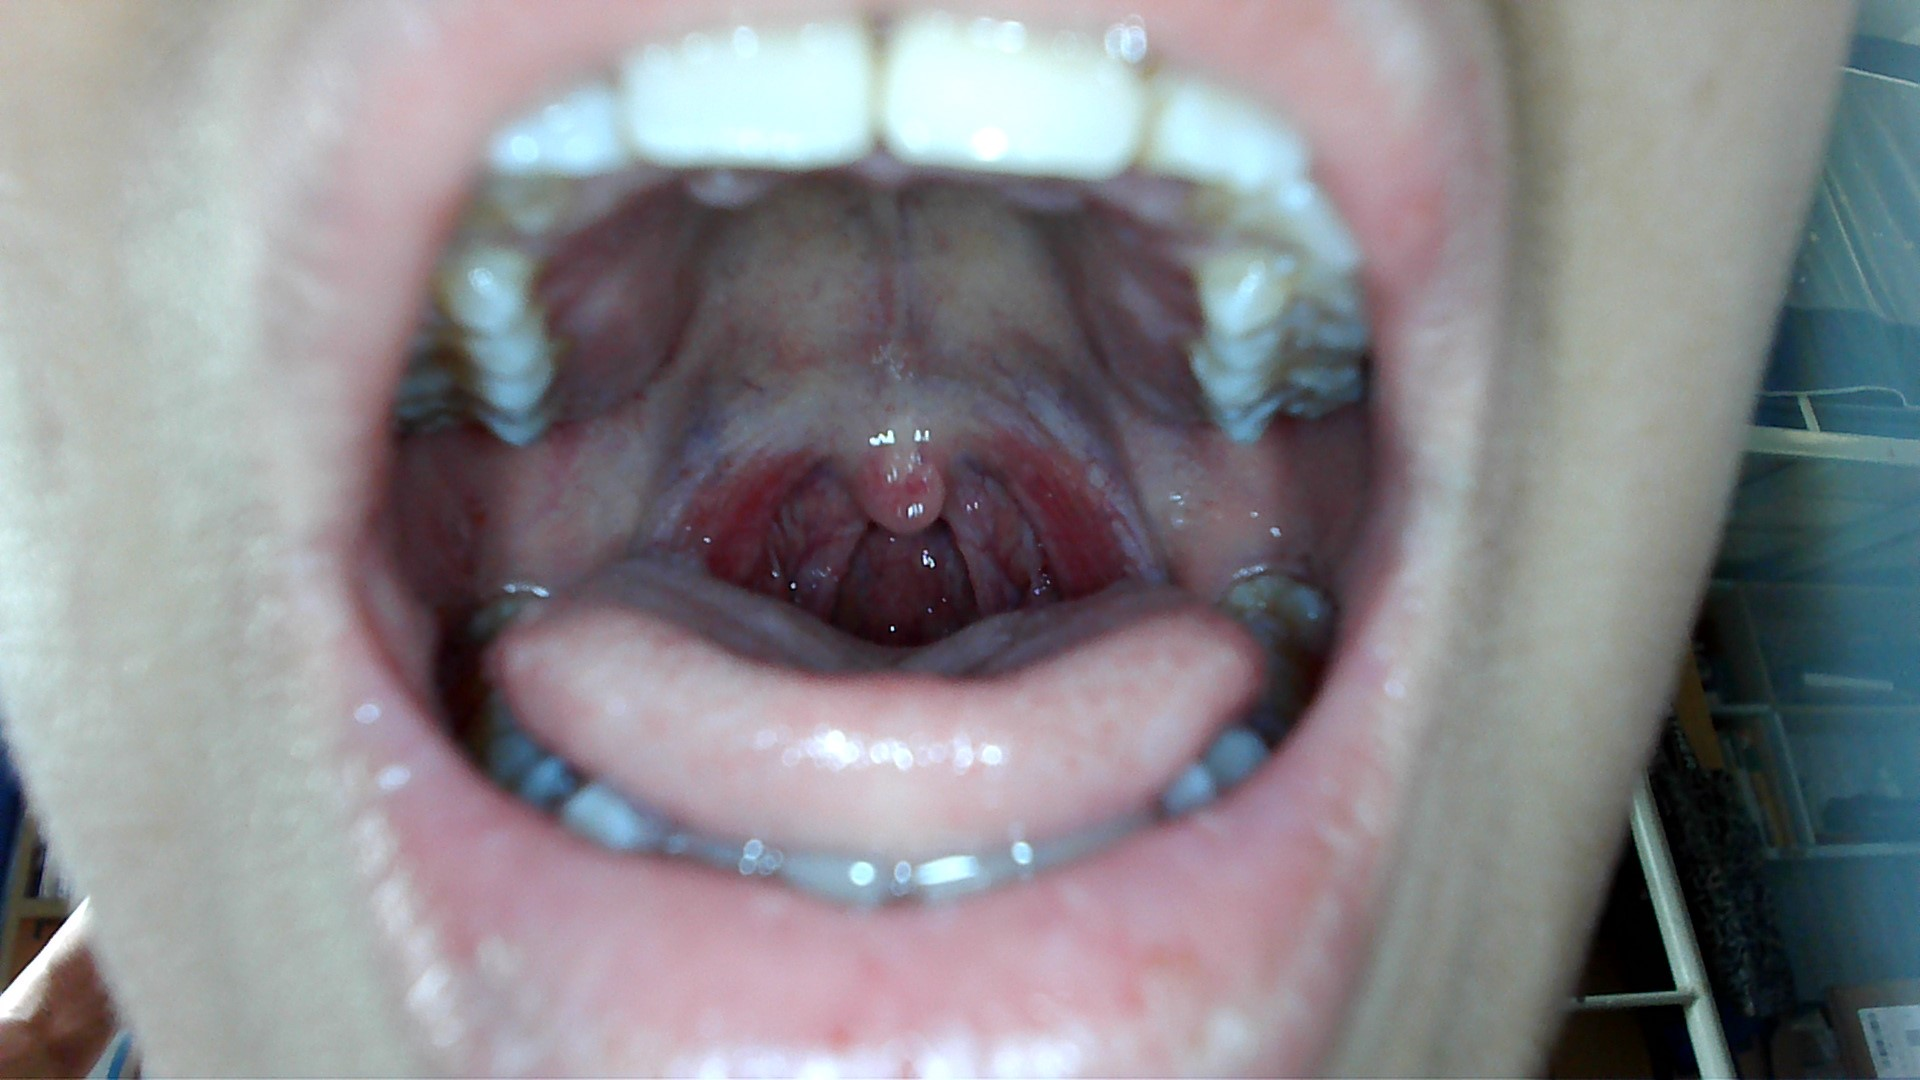throat: (963, 404, 1142, 588), (670, 396, 818, 576)
